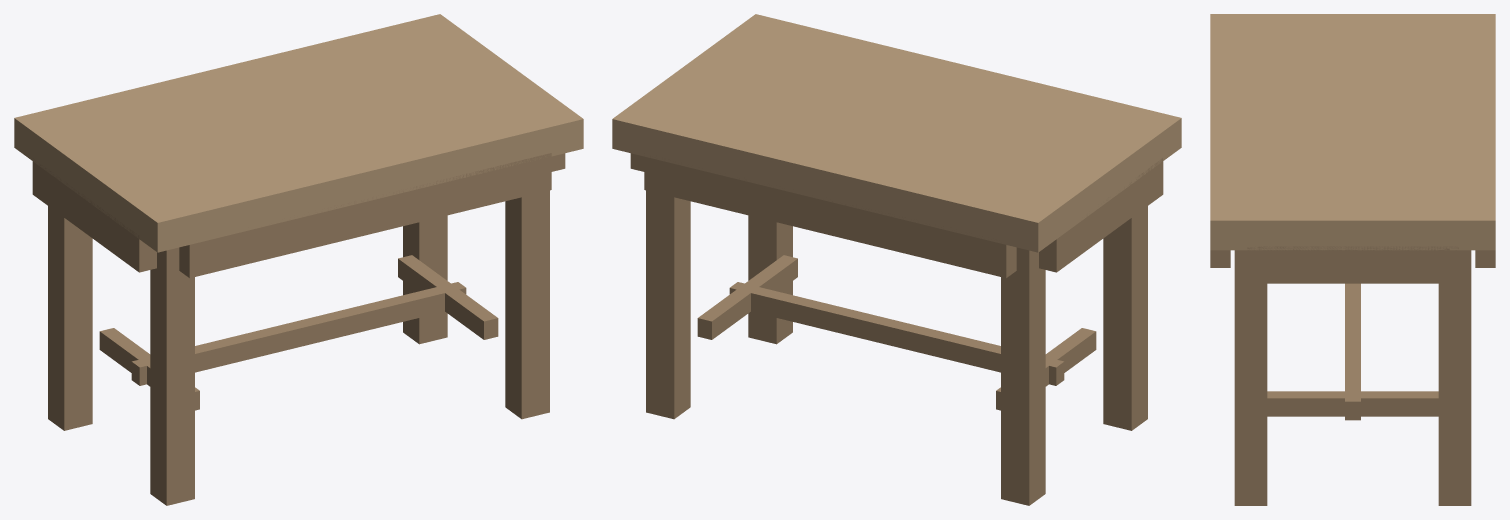
File: temp_table.glb
The picture shows the model from 3 angles, left to right: view 1: azimuth 30°, elevation 25°; view 2: azimuth 150°, elevation 25°; view 3: azimuth 270°, elevation 25°; orthographic projection.
Parts seen in each view (by area): view 1: TableTop, ApronFront, Leg3, Leg4, Leg1, StretcherLong, ApronLeft, Leg2, StretcherRight, StretcherLeft; view 2: TableTop, ApronBack, Leg1, Leg2, Leg3, StretcherLong, ApronLeft, Leg4, StretcherRight, StretcherLeft; view 3: TableTop, Leg2, Leg4, ApronRight, StretcherRight, StretcherLong, ApronFront, ApronBack.
Part boxes in pixels (x1,y1,x2,y2): TableTop: [14, 14, 583, 252]; ApronFront: [179, 153, 551, 278]; Leg3: [150, 247, 194, 505]; Leg4: [505, 190, 549, 419]; Leg1: [48, 206, 92, 430]; StretcherLong: [131, 282, 466, 385]; ApronLeft: [32, 158, 156, 272]; Leg2: [403, 215, 447, 344]; StretcherRight: [398, 255, 498, 339]; StretcherLeft: [99, 328, 199, 410]; TableTop: [612, 14, 1181, 252]; ApronBack: [644, 153, 1016, 278]; Leg1: [1001, 247, 1045, 505]; Leg2: [646, 190, 690, 419]; Leg3: [1103, 206, 1147, 430]; StretcherLong: [729, 282, 1064, 385]; ApronLeft: [1039, 158, 1163, 272]; Leg4: [748, 215, 792, 344]; StretcherRight: [697, 255, 797, 339]; StretcherLeft: [996, 328, 1096, 410]; TableTop: [1210, 14, 1495, 250]; Leg2: [1438, 250, 1471, 505]; Leg4: [1234, 250, 1267, 505]; ApronRight: [1247, 246, 1458, 283]; StretcherRight: [1267, 391, 1438, 416]; StretcherLong: [1345, 283, 1360, 420]; ApronFront: [1210, 250, 1230, 267]; ApronBack: [1475, 250, 1495, 267].
Bounding box in the file's own units: 1.2 × 0.8 × 0.7.
